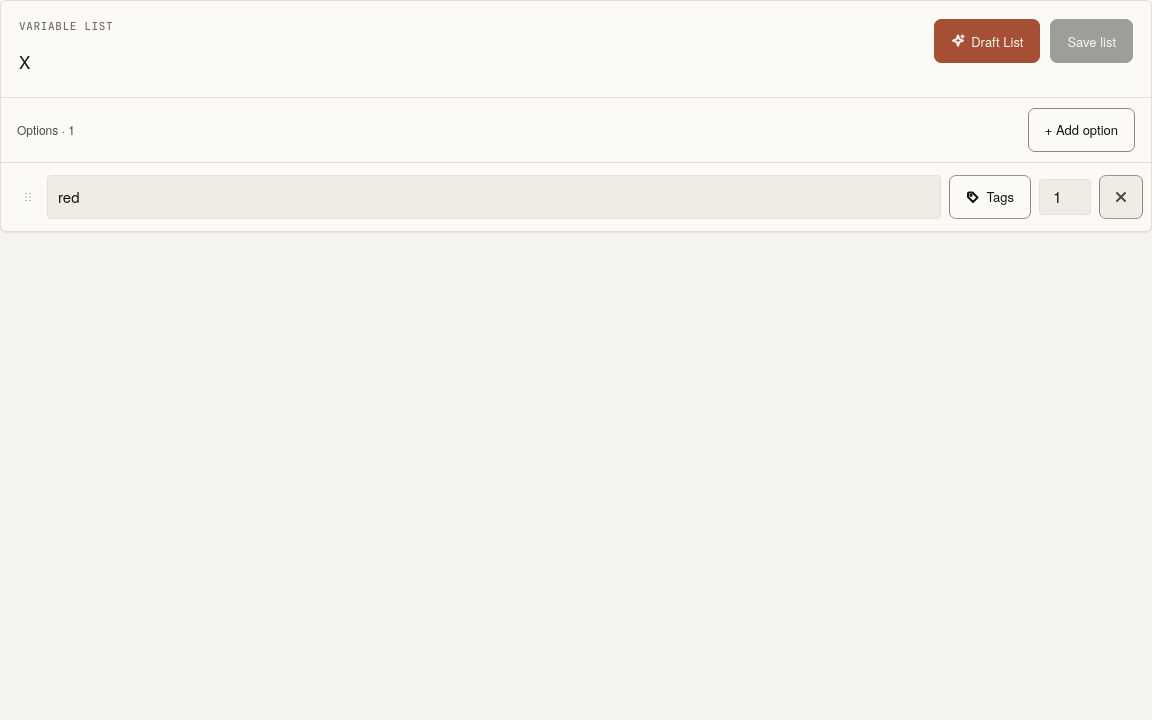
ListEditor — AI Draft List › a clarify response opens the describe dialog for a non-empty list
This screenshot has width=1152, height=720.
What coordinates should you click on to do the following:
click the button "Draft List"
I would click on:
 (987, 41)
Its box is 934,19 -> 1040,63.
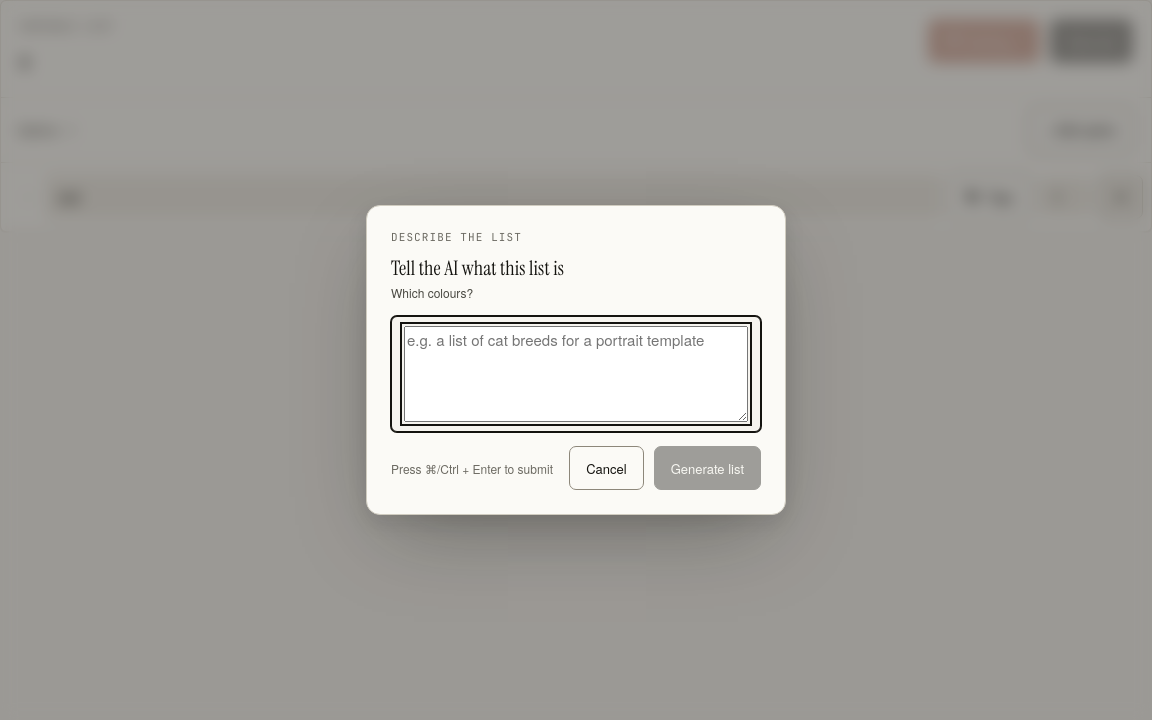
Check: the dialog is shown
Check: the text "Which colours?" is shown, box 391,284 -> 473,301
